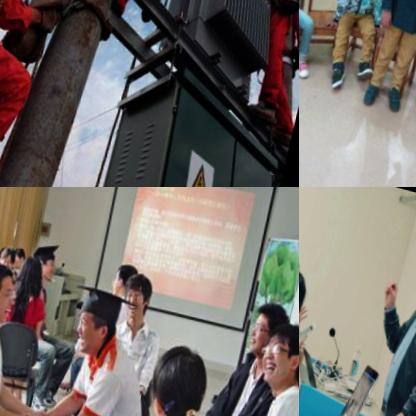head: (143, 331, 218, 416), (64, 272, 129, 361), (244, 286, 296, 356), (257, 308, 299, 385), (117, 261, 157, 320), (0, 252, 24, 328), (12, 247, 48, 297), (106, 249, 138, 300), (27, 234, 61, 280), (299, 256, 313, 326), (8, 238, 30, 272), (0, 237, 17, 272)
